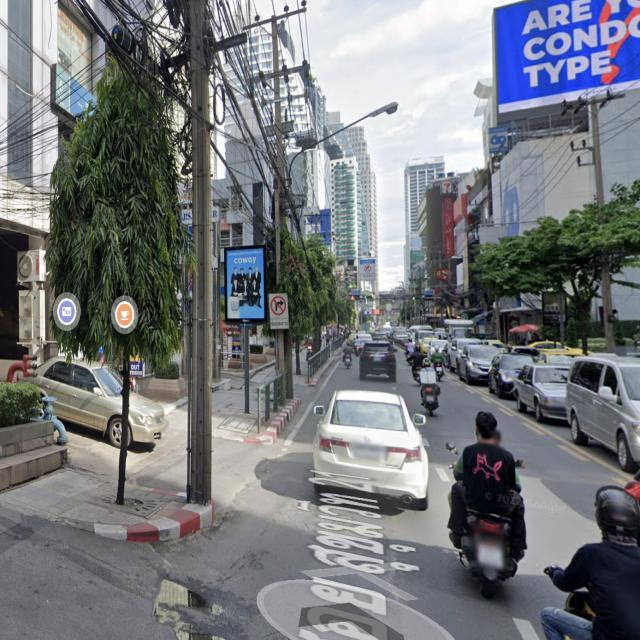tree: (67, 36, 180, 518), (471, 178, 640, 358), (260, 227, 306, 380)
